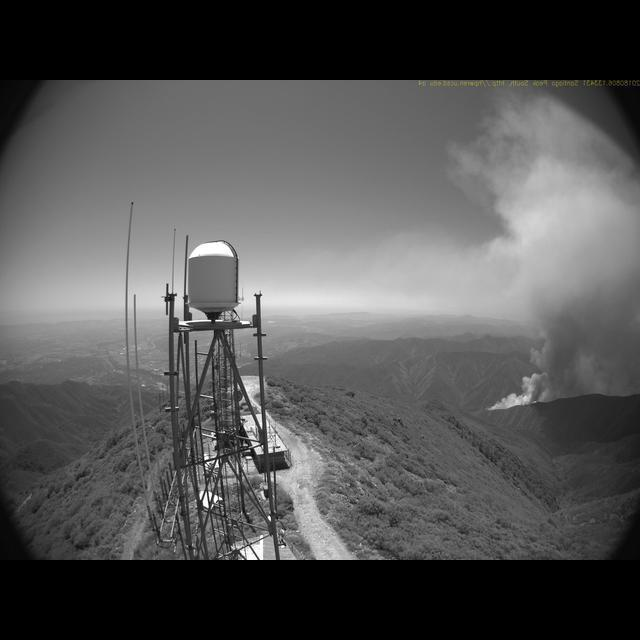Smoke: (475, 92, 639, 416)
